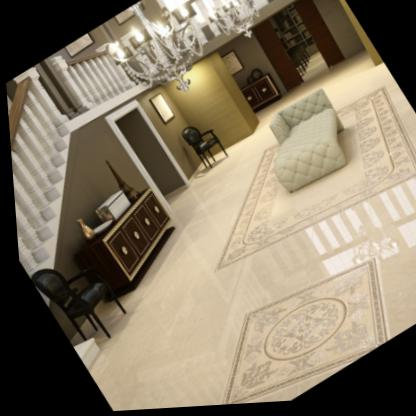Carpet: (214, 91, 416, 274), (217, 262, 386, 407)
Ceramic floor: (83, 136, 268, 412), (363, 178, 416, 346)
